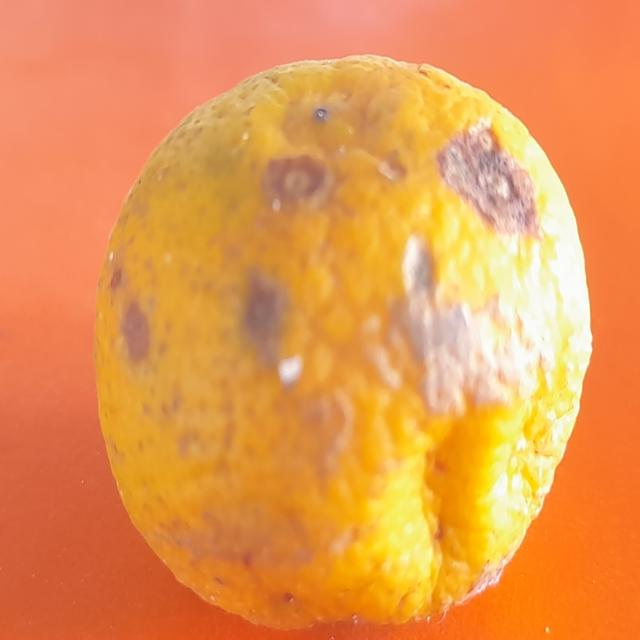black spot: (83, 44, 611, 623)
